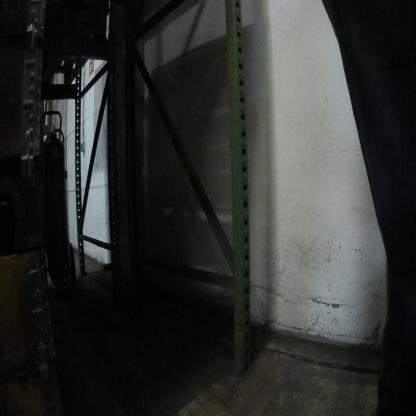pallet: (12, 9, 136, 112)
